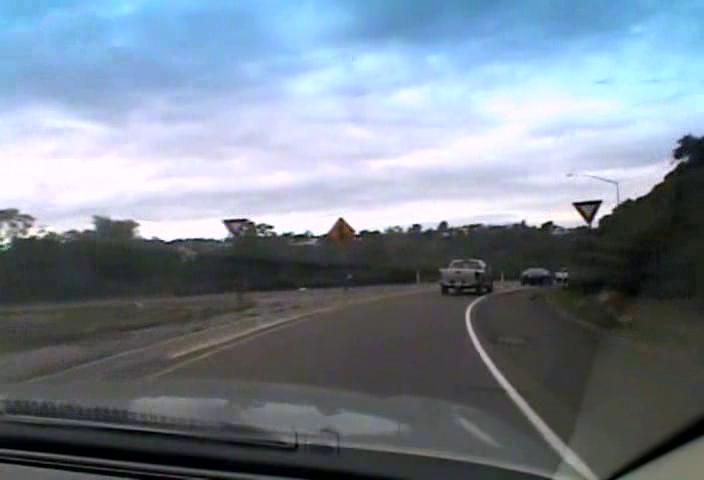yield: (571, 198, 604, 225)
